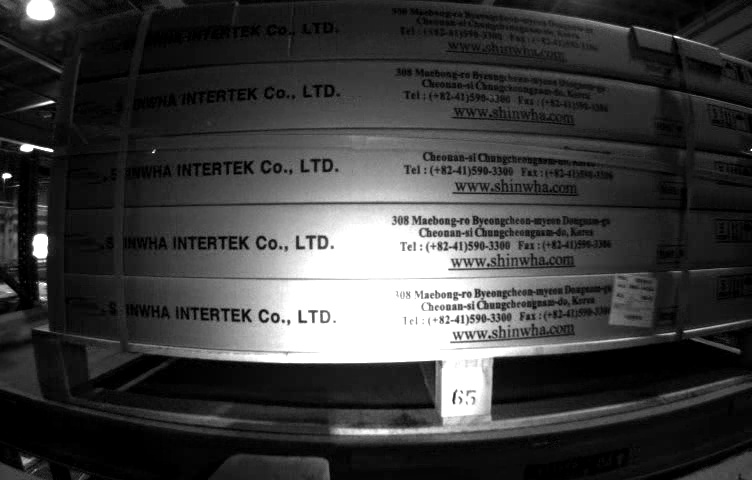True Barcode: (611, 272, 654, 331)
